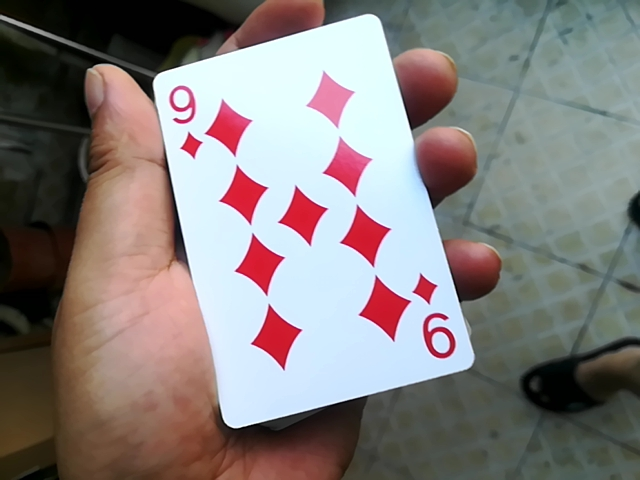fk 9: (140, 11, 456, 444)
